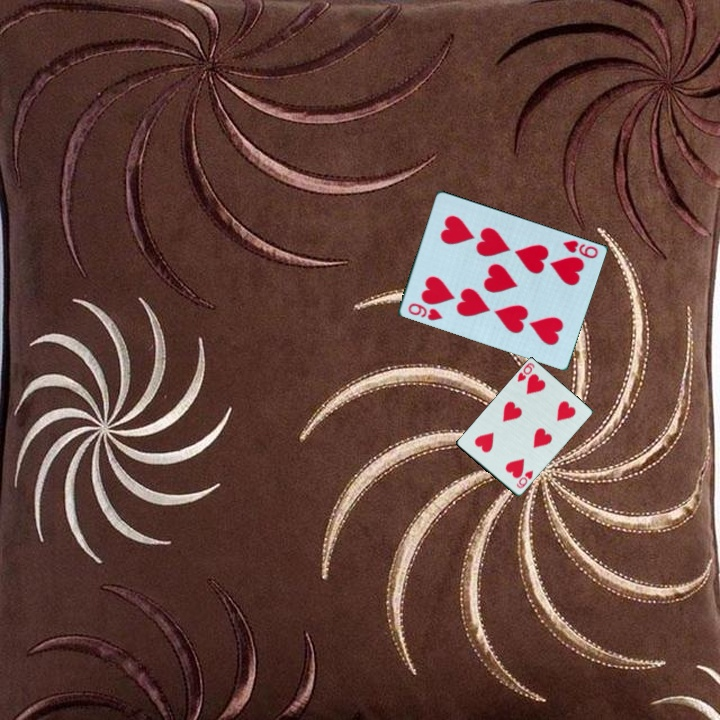6h: (514, 360, 537, 385), (513, 467, 536, 491)
9h: (559, 237, 601, 262), (404, 300, 446, 324)
